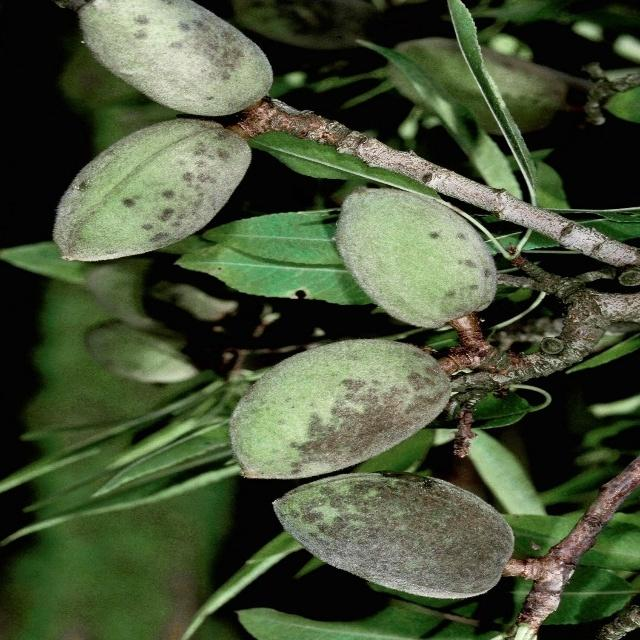leaf_spot: (42, 105, 258, 268), (228, 333, 444, 496), (281, 442, 497, 605), (70, 0, 282, 124)
